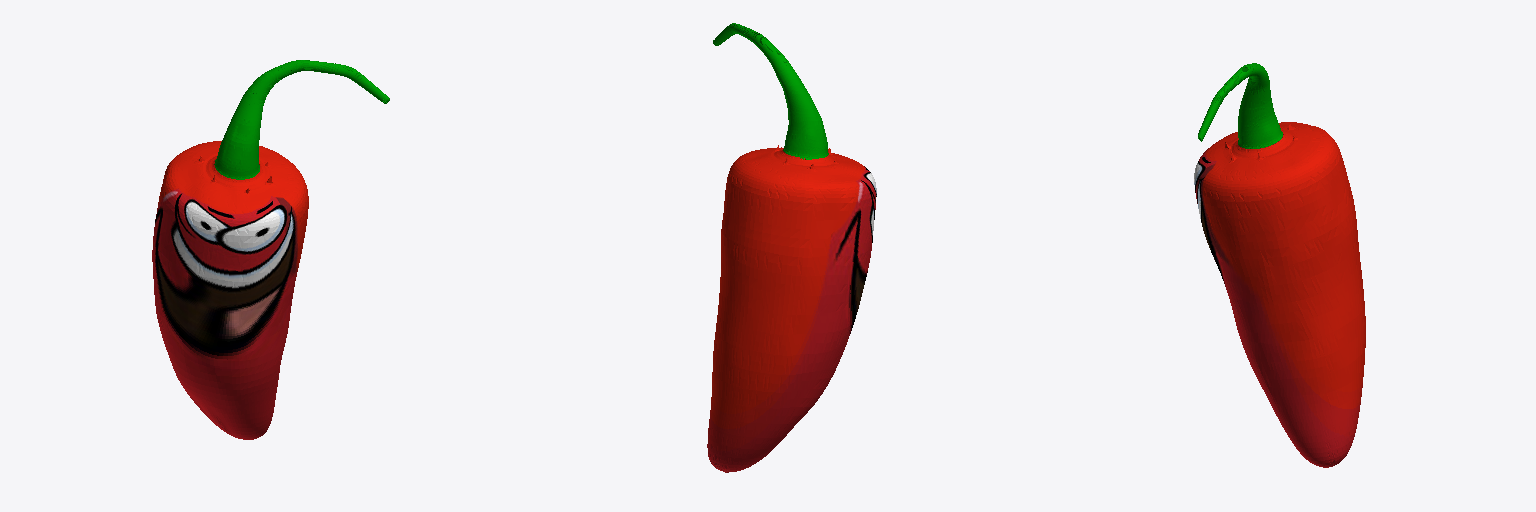
3 renders of one model, left to right at view 1: azimuth 30°, elevation 25°; view 2: azimuth 150°, elevation 25°; view 3: azimuth 270°, elevation 25°, orthographic.
Parts seen in each view (by area): view 1: lowerJalapeno_10184_JalapenoPepper, lowerJalapeno.001_10184_JalapenoPepper.005; view 2: lowerJalapeno_10184_JalapenoPepper, lowerJalapeno.001_10184_JalapenoPepper.005; view 3: lowerJalapeno_10184_JalapenoPepper, lowerJalapeno.001_10184_JalapenoPepper.005.
Boxes of the visible parts, box(x1,y1,x2,y2) form: lowerJalapeno_10184_JalapenoPepper: box(152, 141, 308, 439); lowerJalapeno.001_10184_JalapenoPepper.005: box(214, 60, 389, 179); lowerJalapeno_10184_JalapenoPepper: box(707, 145, 876, 472); lowerJalapeno.001_10184_JalapenoPepper.005: box(713, 23, 828, 159); lowerJalapeno_10184_JalapenoPepper: box(1194, 122, 1365, 467); lowerJalapeno.001_10184_JalapenoPepper.005: box(1198, 63, 1282, 148).
Size of the model in its own units: 18.58 by 38.04 by 14.65.
2 materials, 1 textured.